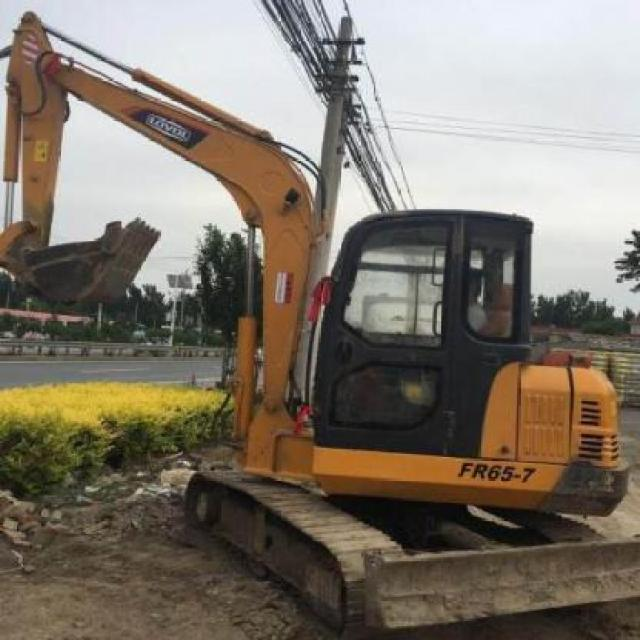Excavator: (0, 7, 629, 631)
